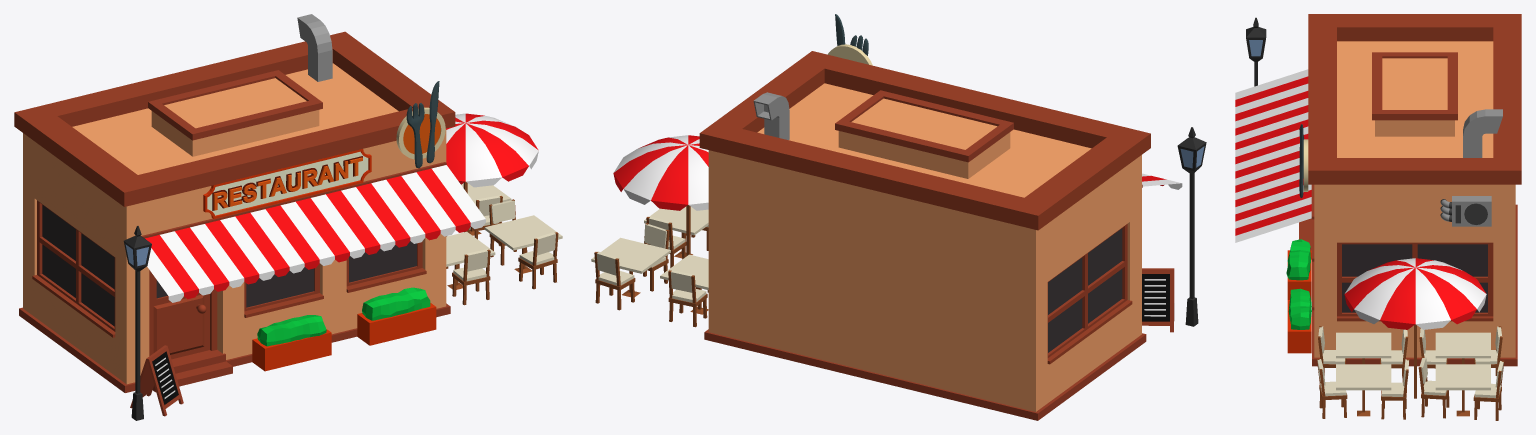
File: RestaurantBuilding.glb
3 views of the same model, side by side, from view 1: azimuth 30°, elevation 25°; view 2: azimuth 150°, elevation 25°; view 3: azimuth 270°, elevation 25° (orthographic). The views are drawn at different scales.
Parts seen in each view (by area): view 1: RestaurantBuilding; view 2: RestaurantBuilding; view 3: RestaurantBuilding.
Part boxes in pixels (box(x1,y1,x2,y2)): RestaurantBuilding: box(14, 14, 562, 420); RestaurantBuilding: box(591, 14, 1206, 420); RestaurantBuilding: box(1235, 14, 1521, 420).
Bounding box in the file's own units: 0.0538 × 0.0257 × 0.0285.
Materials: 1 (1 with a texture image).
